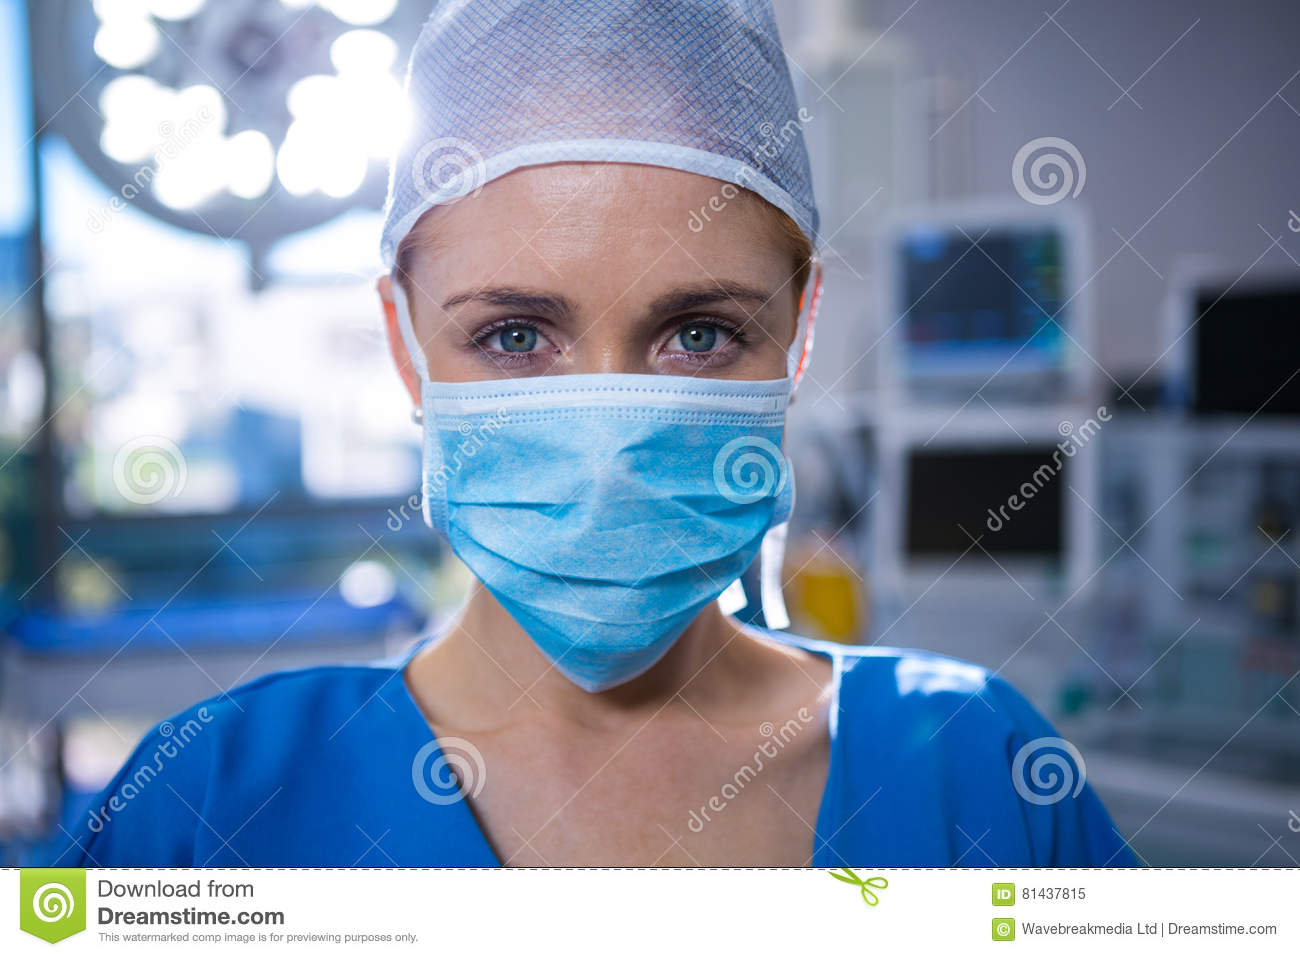mask: (410, 373, 804, 680)
